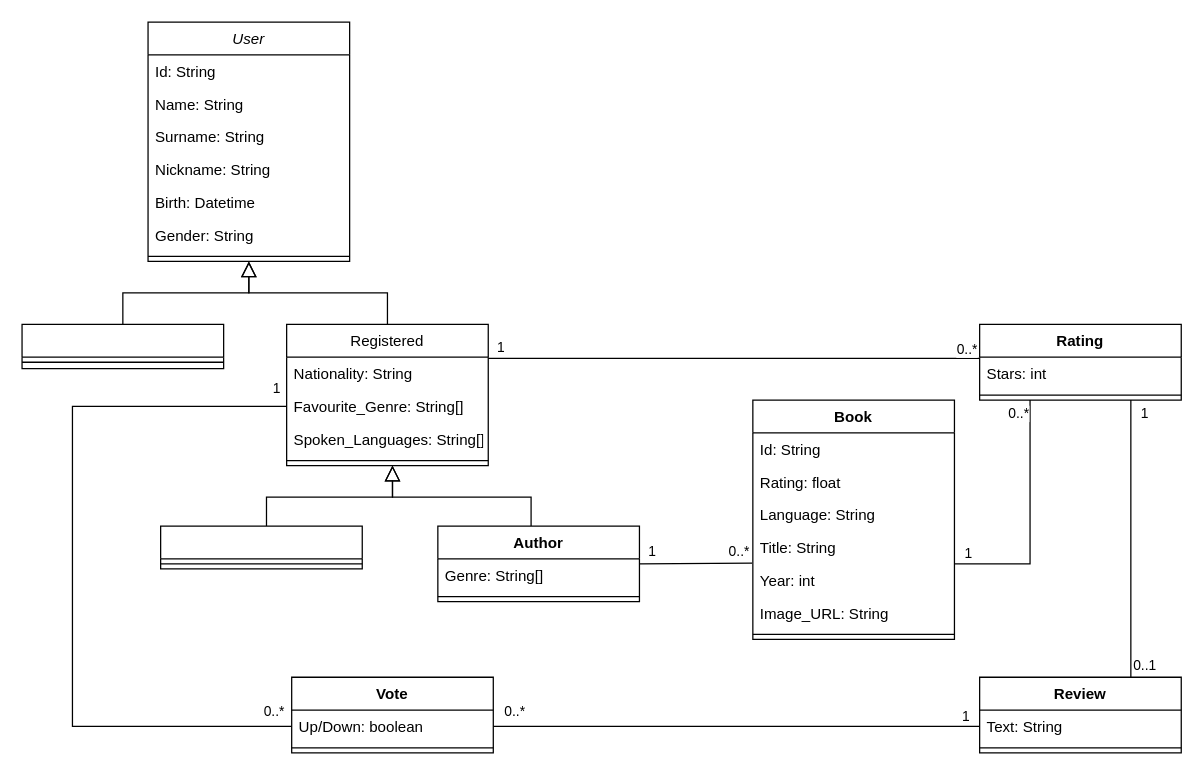
The diagram is 1203 pixels wide and 775 high, and some of its shapes have lost their labels. Here are the shapes that lost their labels. From the top down, the centre of each, then its label:
point (122, 346): Admin
point (260, 547): Reviewer
